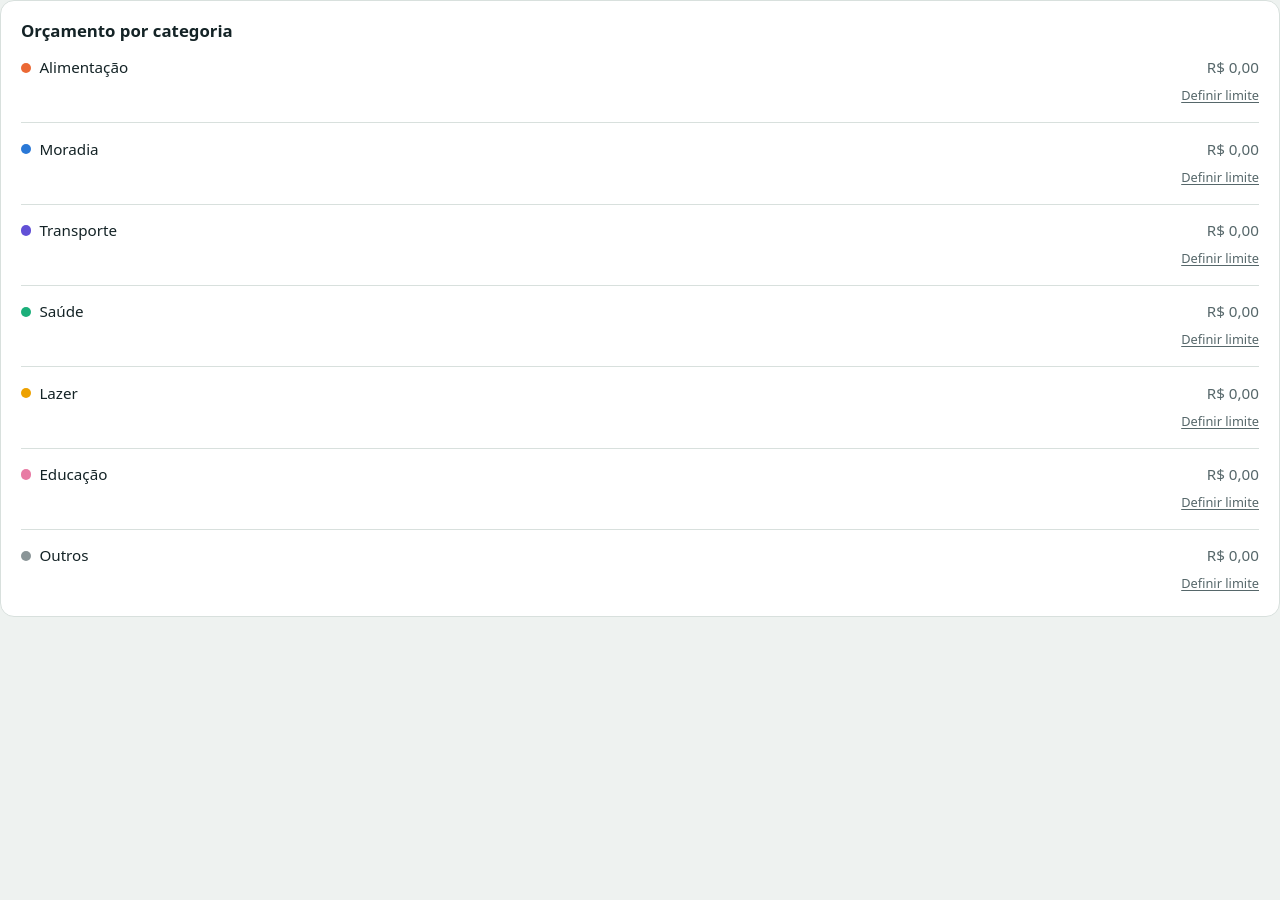
BudgetPanel › cancela a edição sem salvar
Click the button with aria-label "Definir limite de Lazer" at (1220, 421), box [1181, 409, 1259, 433]
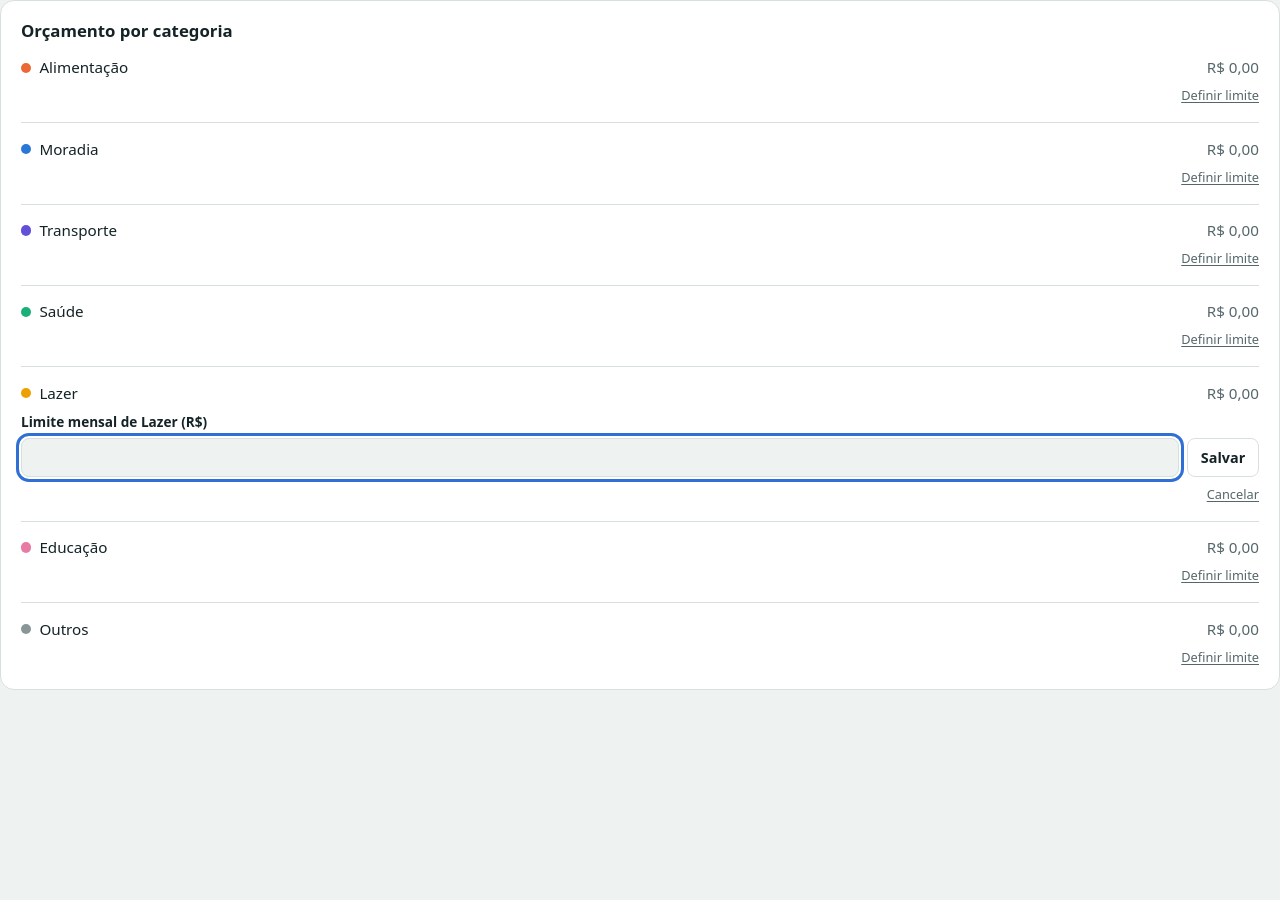
Click the button "Cancelar" at (1233, 494), box [1207, 482, 1259, 506]
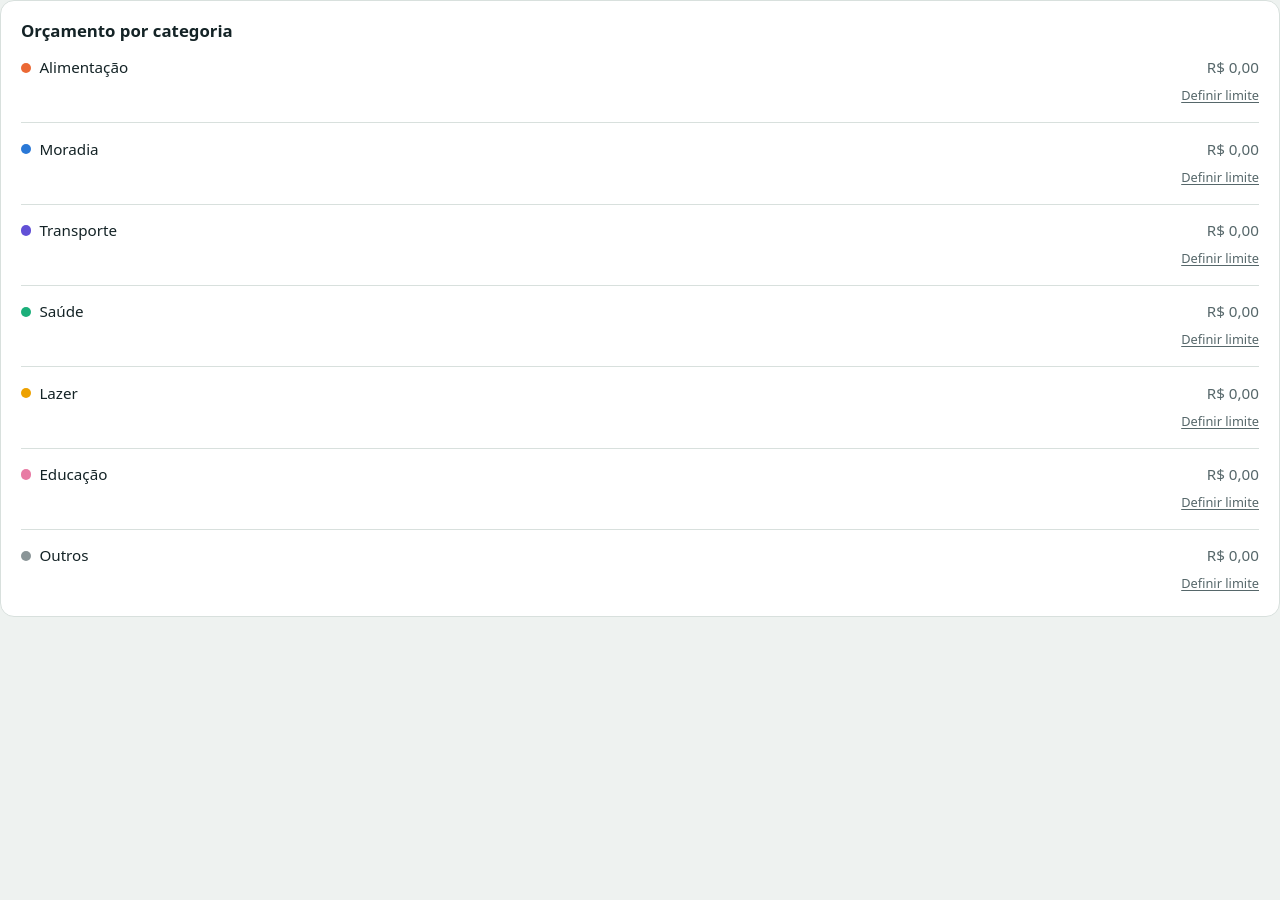
Expected: the label labelled "Limite mensal de Lazer (R$)" is gone
